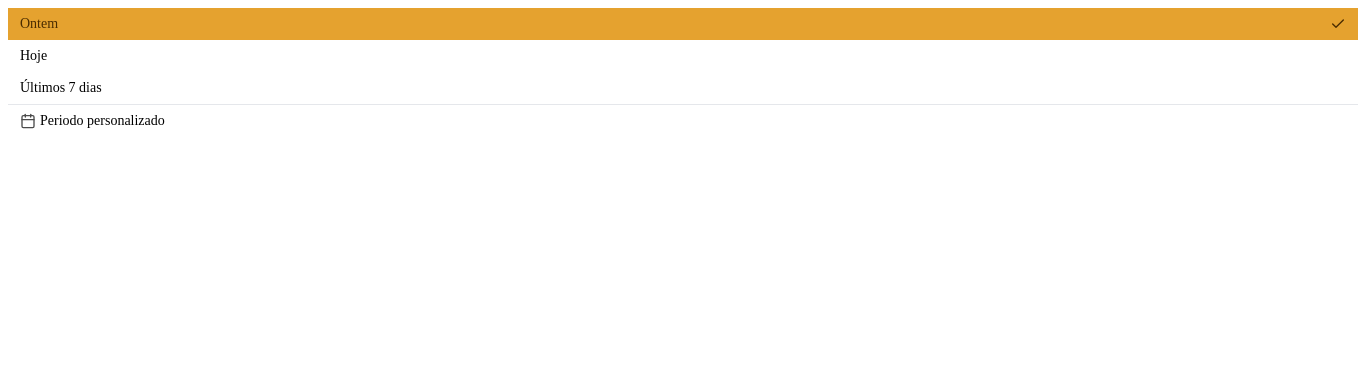
Test: DateRangeFilter › Calendar Navigation › RF19: navega para mes anterior
Click the radio button with class "date-range-filter__custom-trigger".
click(683, 120)  # box x1=8 y1=104 x2=1358 y2=137
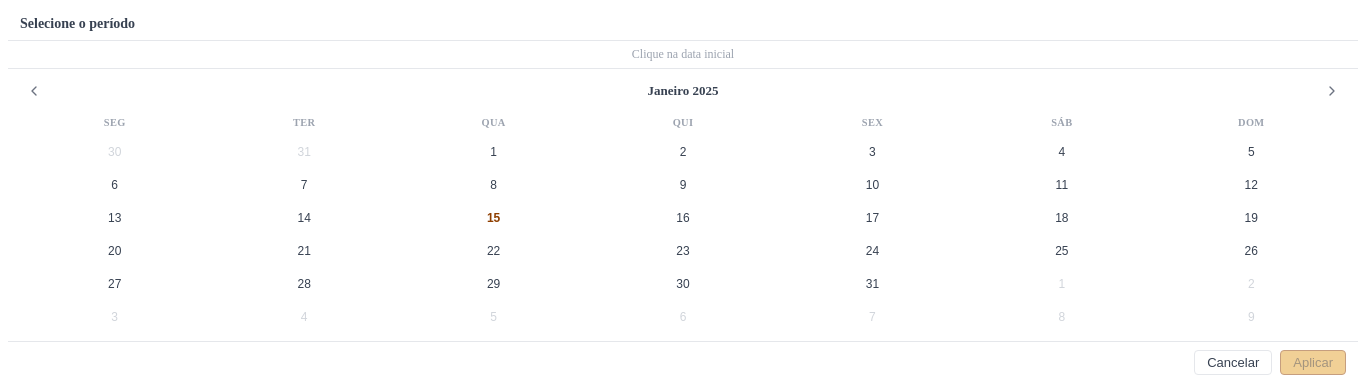
Check: the text with class "drf-cal__title" shows "Janeiro", box x1=648 y1=83 x2=718 y2=98
Note: Click prev month
Click the 1st button with class "drf-cal__nav".
click(34, 91)  # box x1=20 y1=77 x2=48 y2=105
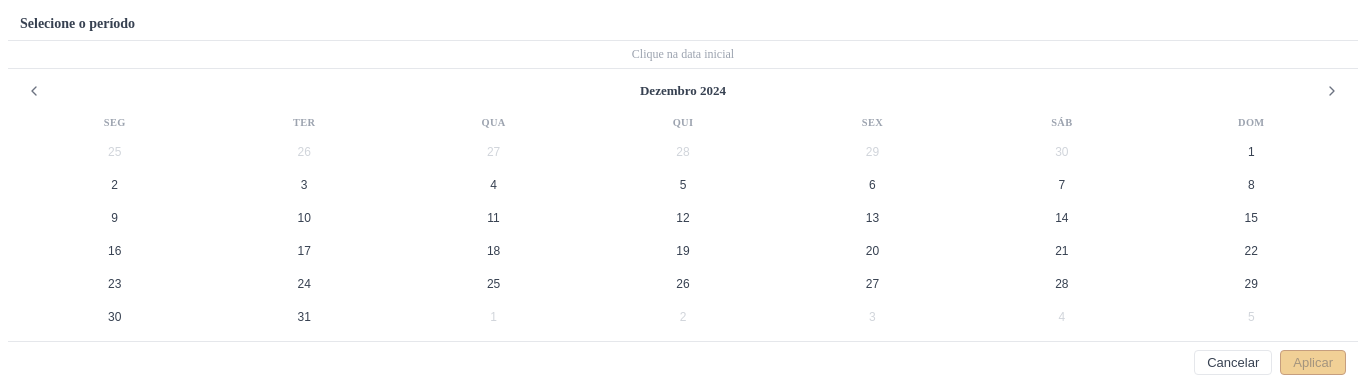
Check: the text with class "drf-cal__title" shows "Dezembro", box x1=640 y1=83 x2=726 y2=98
